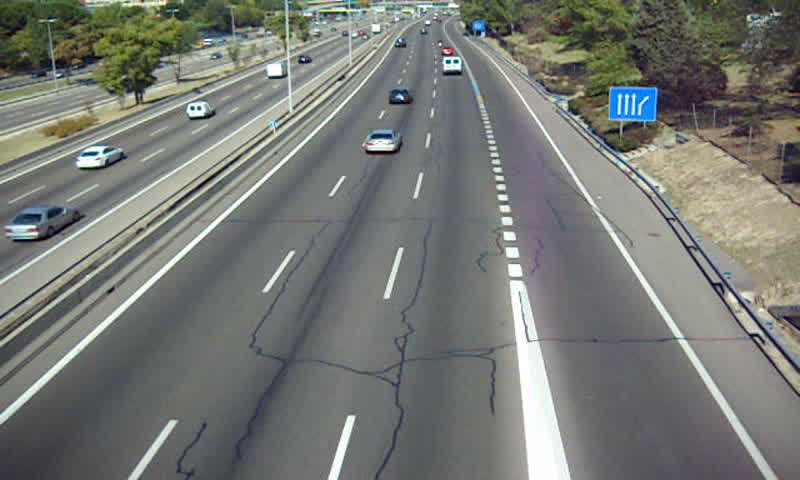car: (366, 130, 404, 154), (388, 88, 412, 106)
van: (443, 56, 462, 74)
